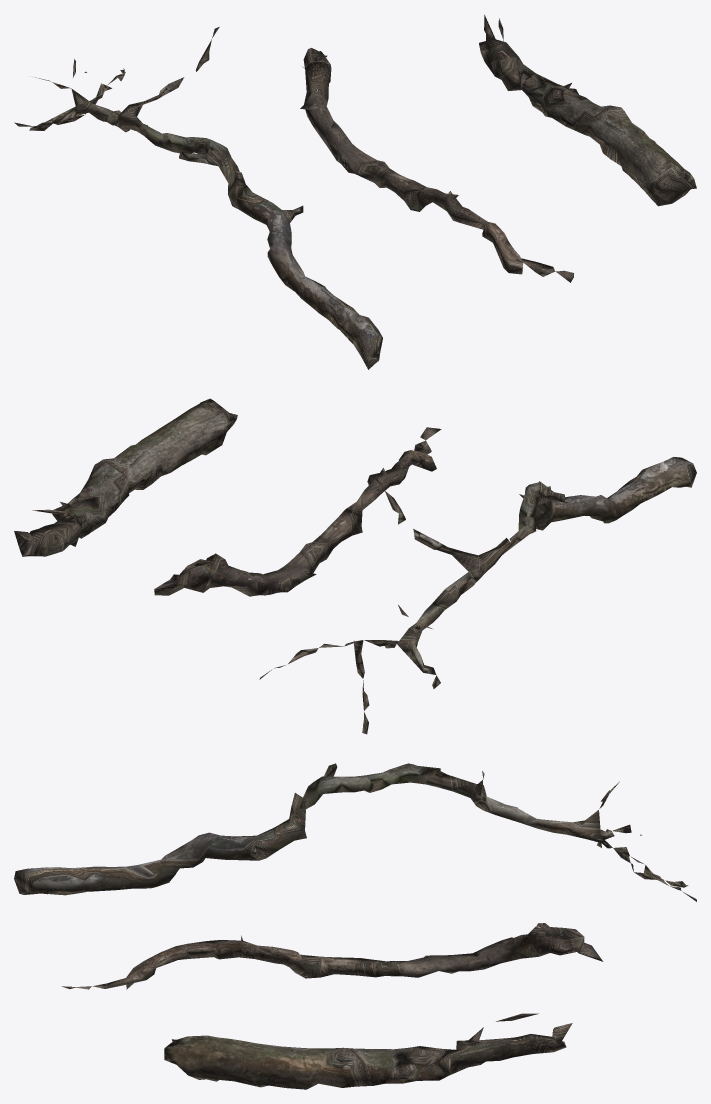
The model's file is branches.glb.
3 renders of one model, top to bottom at view 1: azimuth 30°, elevation 25°; view 2: azimuth 150°, elevation 25°; view 3: azimuth 270°, elevation 25°, orthographic. The views are drawn at different scales.
Visible parts, largest first — view 1: dry_branches_medium_01_c; view 2: dry_branches_medium_01_c; view 3: dry_branches_medium_01_c.
Boxes of the visible parts, <box> form: dry_branches_medium_01_c: <box>14,14,696,369</box>; dry_branches_medium_01_c: <box>14,398,696,734</box>; dry_branches_medium_01_c: <box>14,763,696,1089</box>.
Bounding box in the file's own units: 1.3 × 0.412 × 1.6.
Materials: 1 (1 with a texture image).
